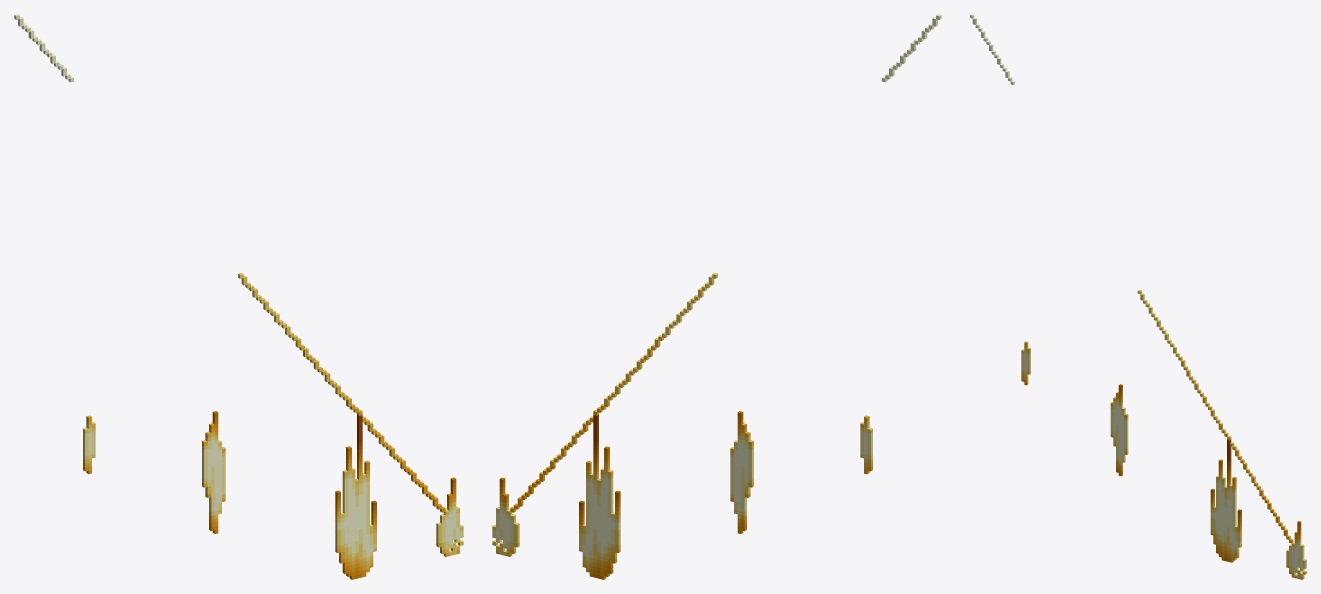
File: Fight_745_2_09_fx.obj
3 renders of one model, left to right at view 1: azimuth 30°, elevation 25°; view 2: azimuth 150°, elevation 25°; view 3: azimuth 330°, elevation 25°, orthographic. The views are drawn at different scales.
Bounding box in the file's own units: 12.4 × 17.1 × 0.1.
